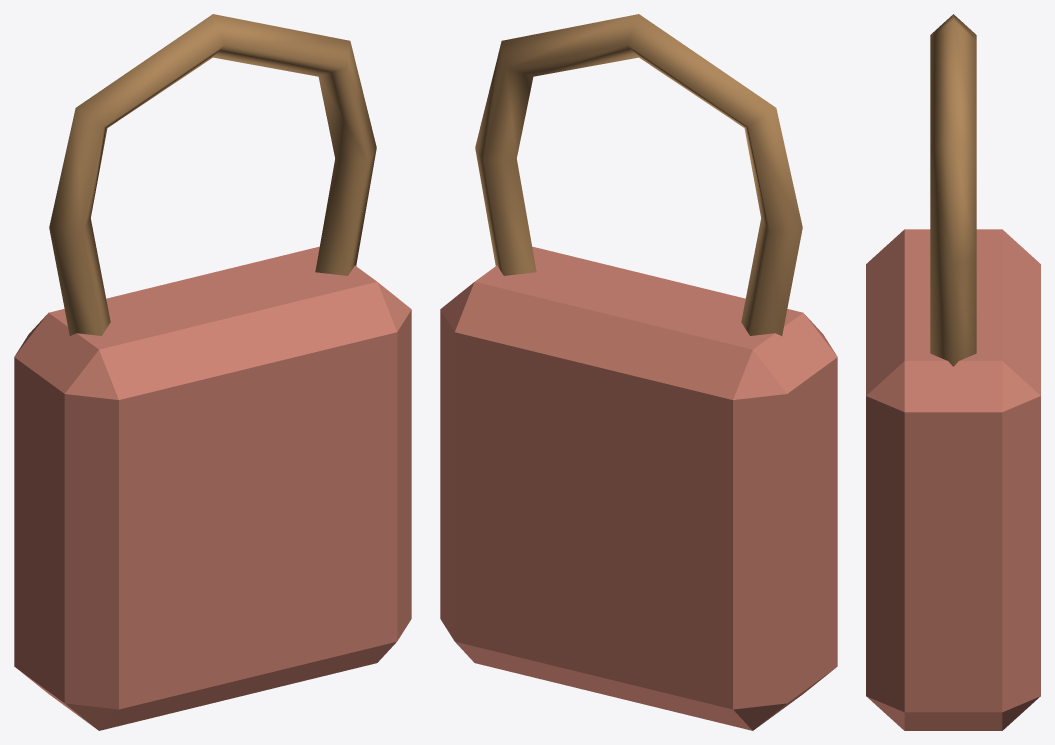
File: object_look_04.glb
The picture shows the model from 3 angles, left to right: view 1: azimuth 30°, elevation 25°; view 2: azimuth 150°, elevation 25°; view 3: azimuth 270°, elevation 25°; orthographic projection. The views are drawn at different scales.
Visible parts, largest first — view 1: object_look_04; view 2: object_look_04; view 3: object_look_04.
Boxes of the visible parts, bbox=[...] form: object_look_04: bbox=[14, 14, 411, 730]; object_look_04: bbox=[440, 14, 837, 730]; object_look_04: bbox=[866, 14, 1040, 730].
Size of the model in its own units: 0.2 by 0.366 by 0.09.
